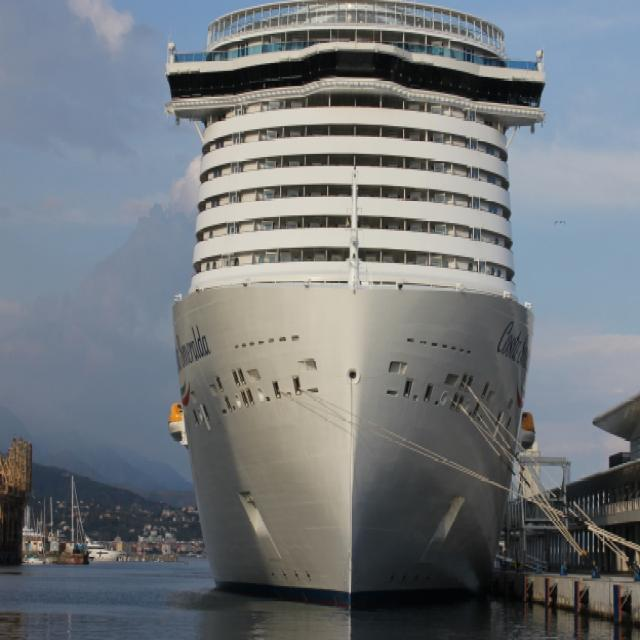cruises: (160, 1, 554, 615)
